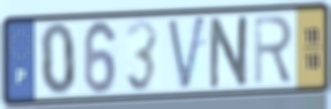0: (35, 21, 79, 98)
3: (124, 17, 163, 95)
6: (81, 18, 118, 97)
N: (207, 12, 253, 91)
R: (252, 13, 295, 88)
V: (165, 13, 209, 94)
